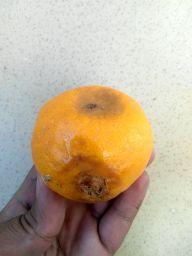Unripe: (30, 86, 151, 202)
